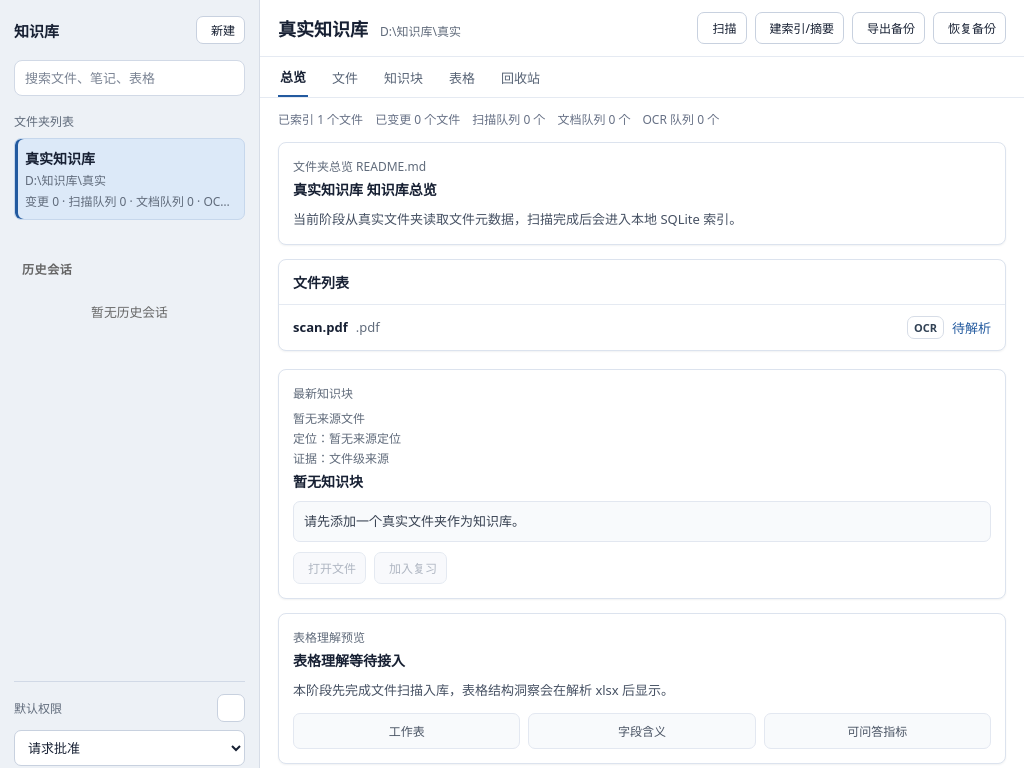
Test: App › queues a PDF file for OCR through the desktop command
Expected: the text "scan.pdf" is shown, left=293, top=318, right=348, bottom=336
Click the button with aria-label "排队 OCR scan.pdf": coordinates (926, 327) left=907, top=316, right=944, bottom=339
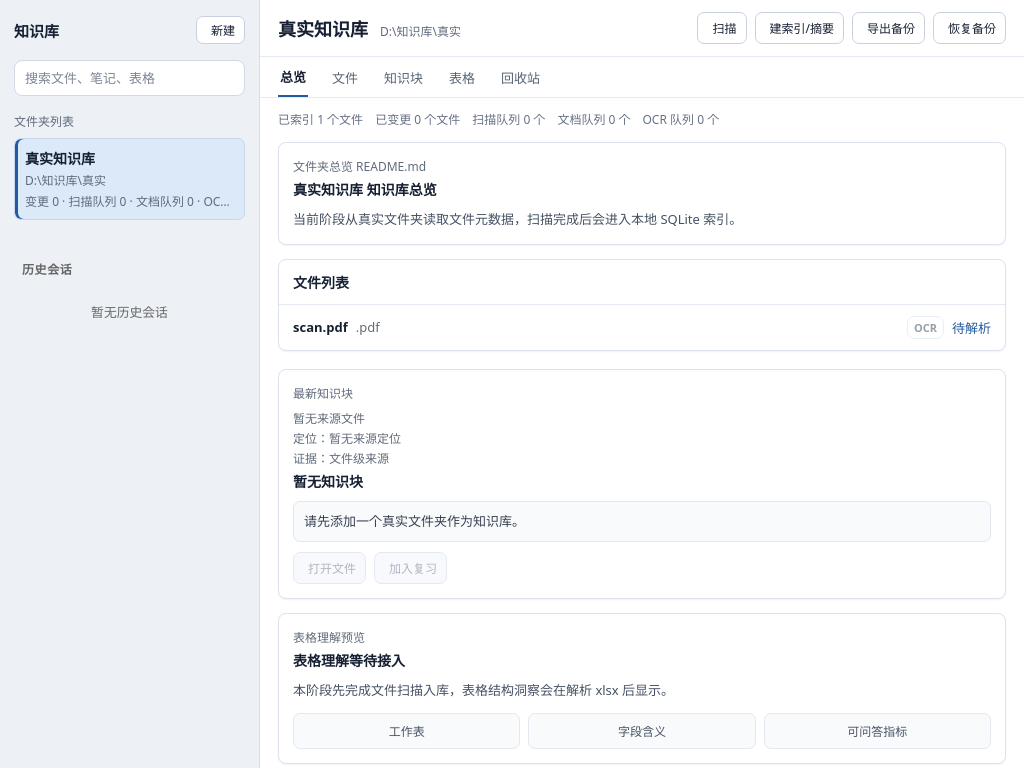
Expected: the button with aria-label "排队 OCR scan.pdf" is disabled, left=907, top=316, right=944, bottom=339
